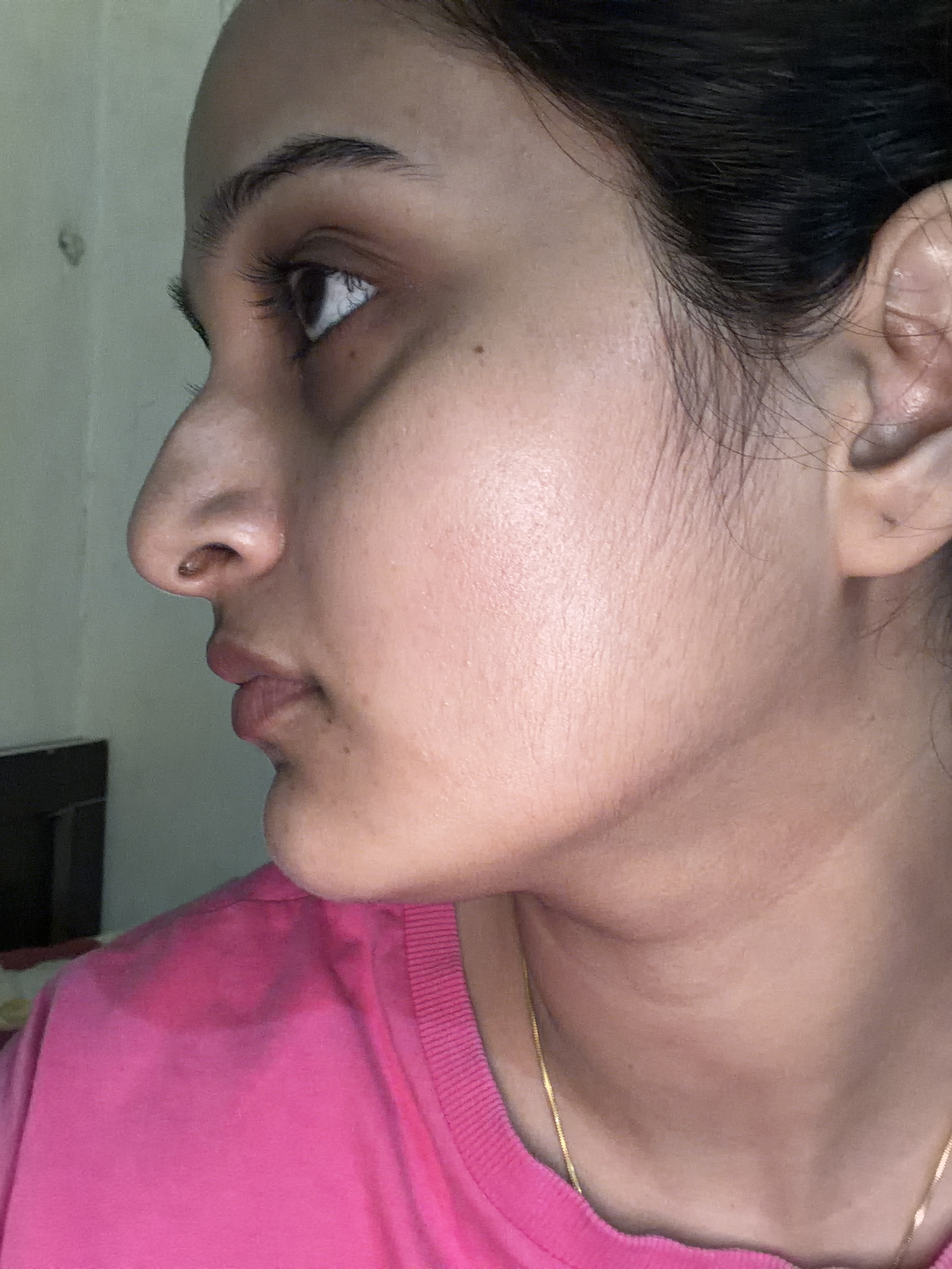closed_comedone: (439, 692, 455, 718), (455, 657, 479, 673)
